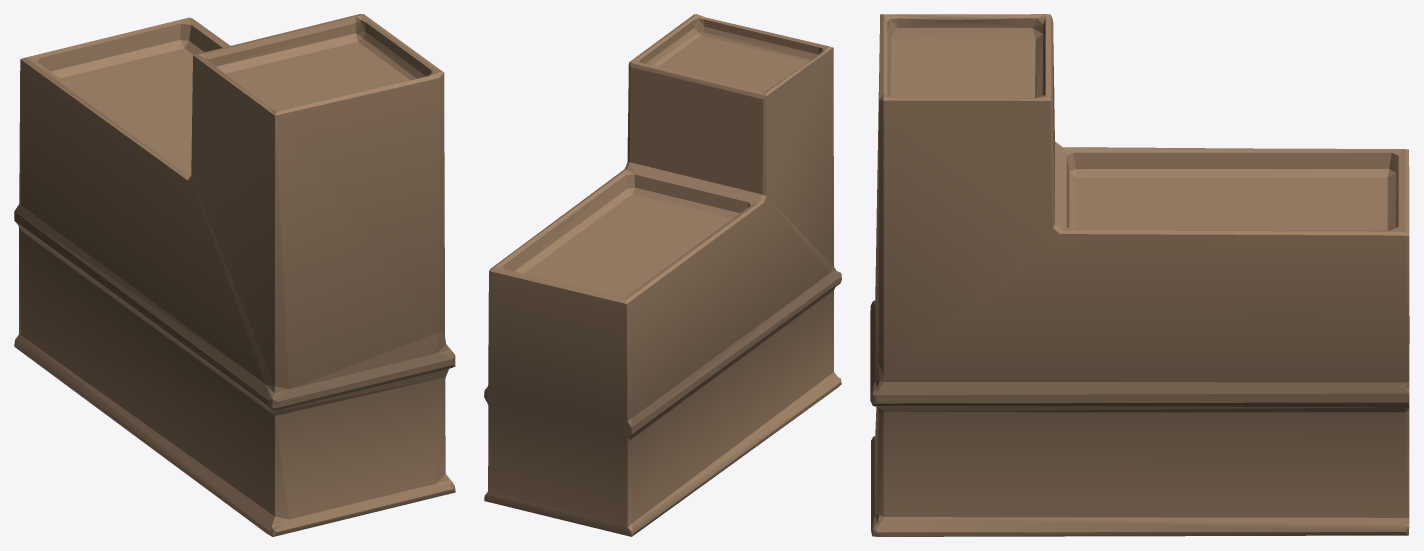
Rendered from Desert Houses(2).glb.
3 renders of one model, left to right at view 1: azimuth 30°, elevation 25°; view 2: azimuth 150°, elevation 25°; view 3: azimuth 270°, elevation 25°, orthographic. The views are drawn at different scales.
Parts seen in each view (by area): view 1: Root; view 2: Root; view 3: Root.
Part boxes in pixels (bbox=[...]): Root: bbox=[14, 14, 455, 536]; Root: bbox=[484, 14, 841, 536]; Root: bbox=[870, 14, 1409, 536].
Bounding box in the file's own units: 4.46 × 9.64 × 10.78.
